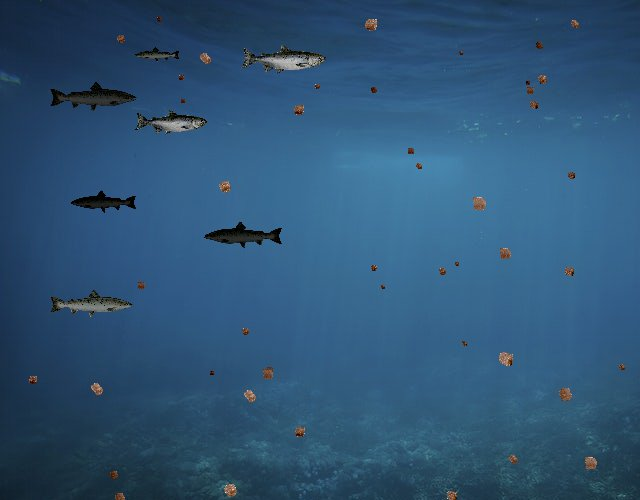Fish: (48, 81, 138, 113), (48, 288, 134, 319), (240, 44, 326, 75), (203, 221, 284, 250), (134, 110, 207, 136), (70, 189, 138, 214), (134, 46, 181, 63)
Pellet: (465, 189, 493, 217), (493, 241, 517, 265), (193, 47, 217, 71), (503, 449, 523, 469), (532, 69, 552, 89), (452, 258, 462, 268)
